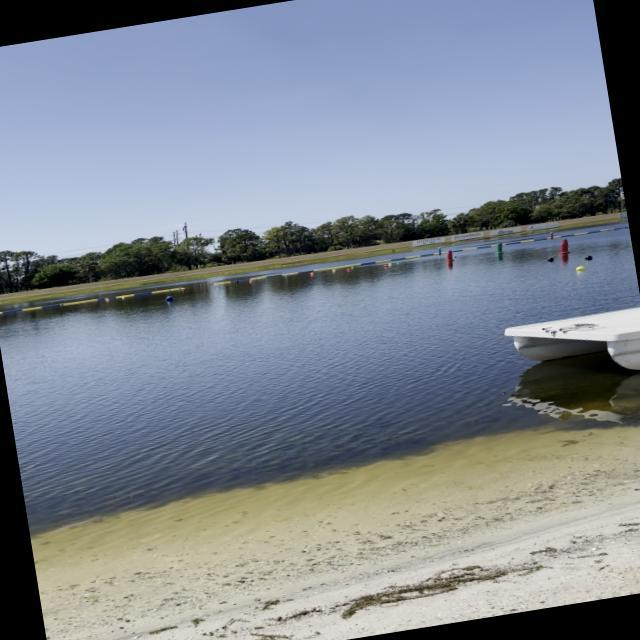buoy: (570, 262, 588, 275), (581, 252, 596, 262), (544, 254, 557, 264), (164, 294, 178, 303), (331, 268, 338, 273), (344, 268, 352, 272), (395, 260, 402, 264), (382, 264, 388, 268), (388, 262, 393, 266)
